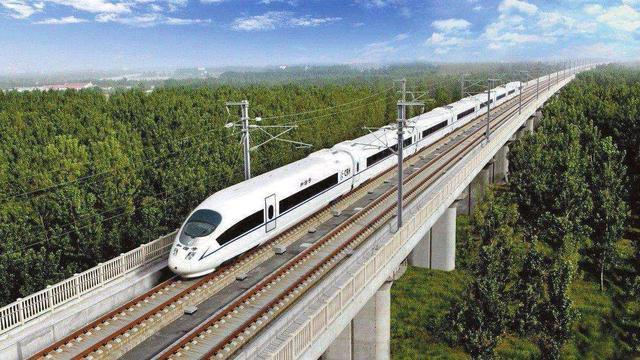hsrw: (166, 78, 528, 281)
